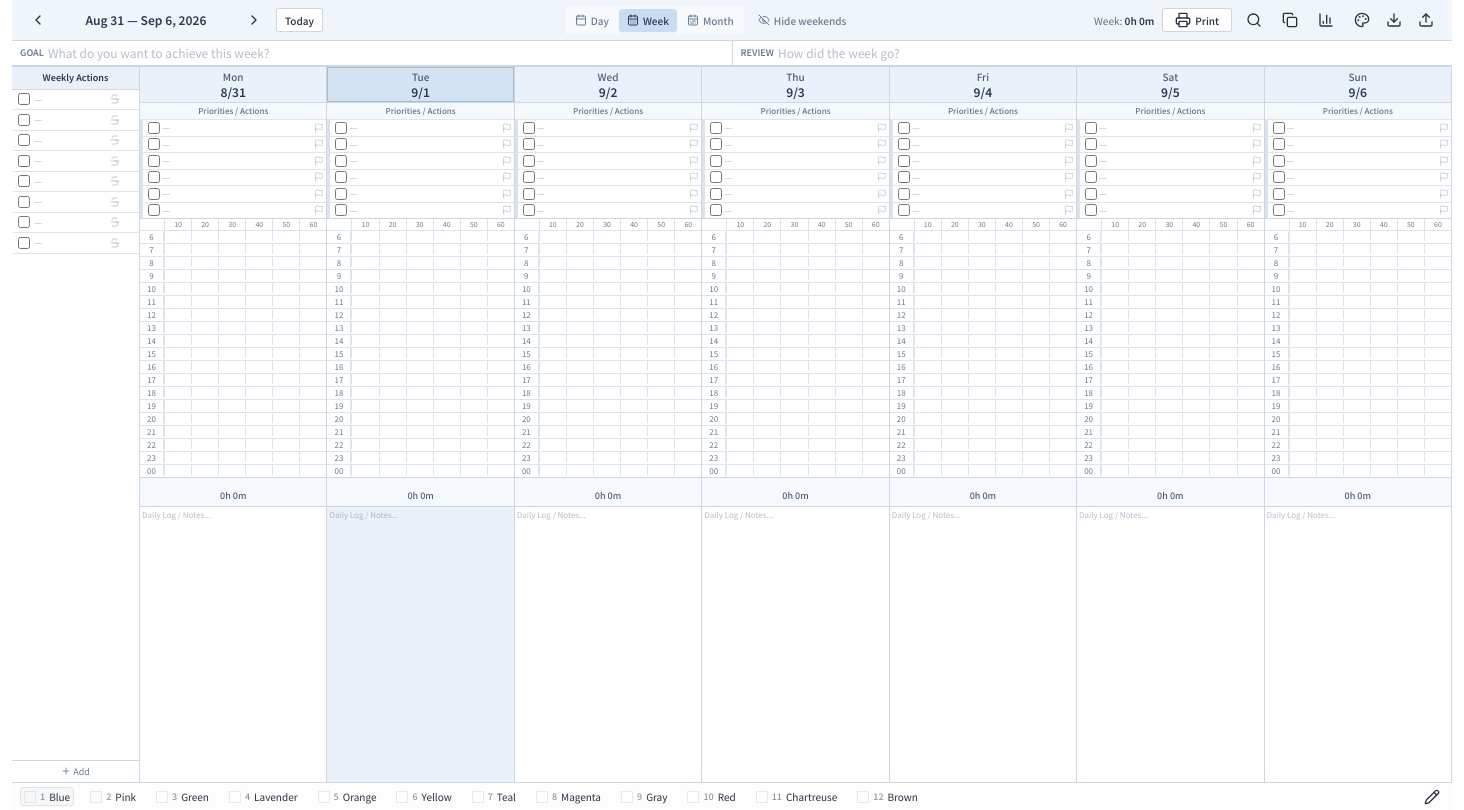
Test: getting back to today › returns to the current month when this week began in the previous one
Click the button "Month" at [710, 20], box [679,8,742,32]
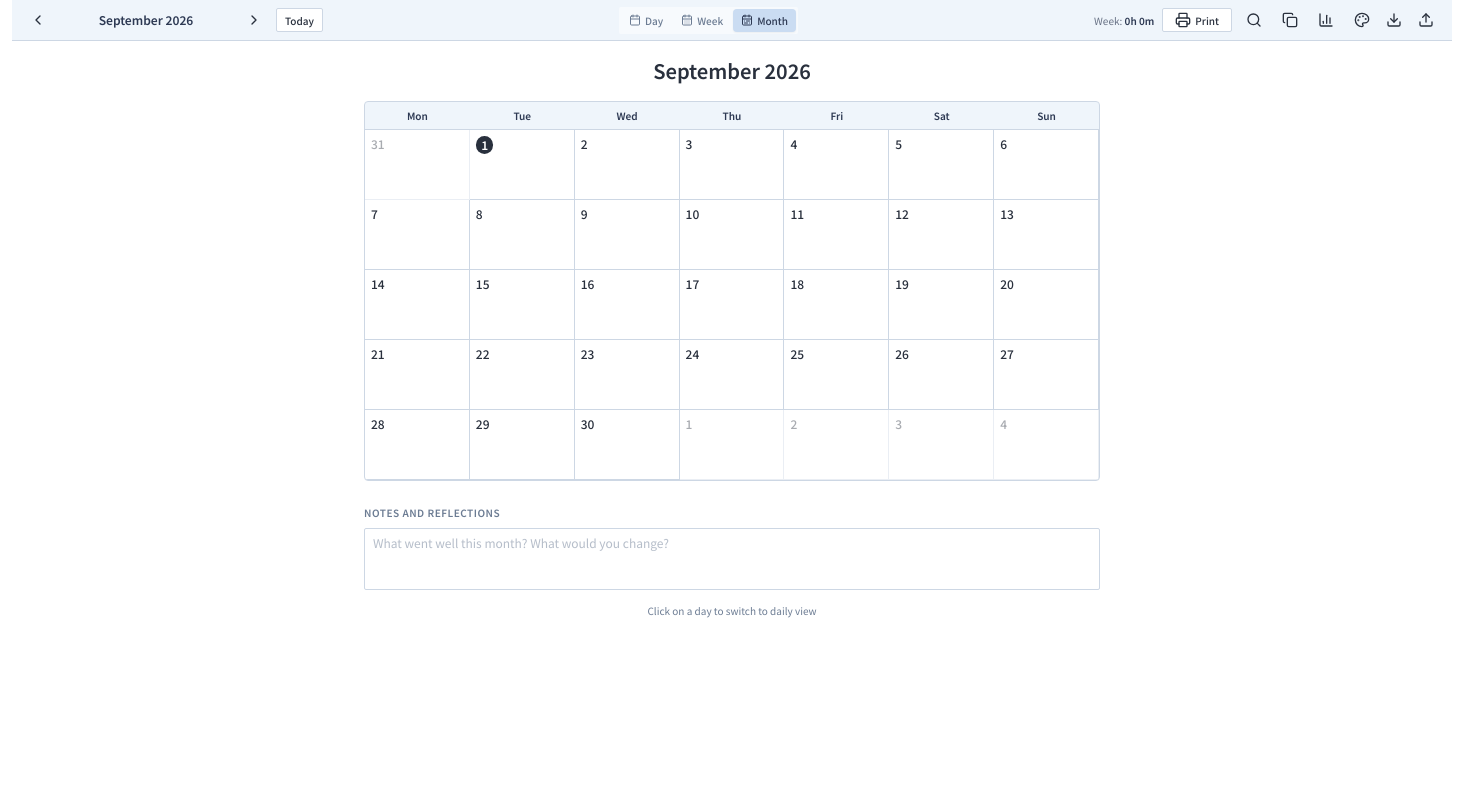
Click the button named "Previous month" at [38, 20], box [24,6,52,34]
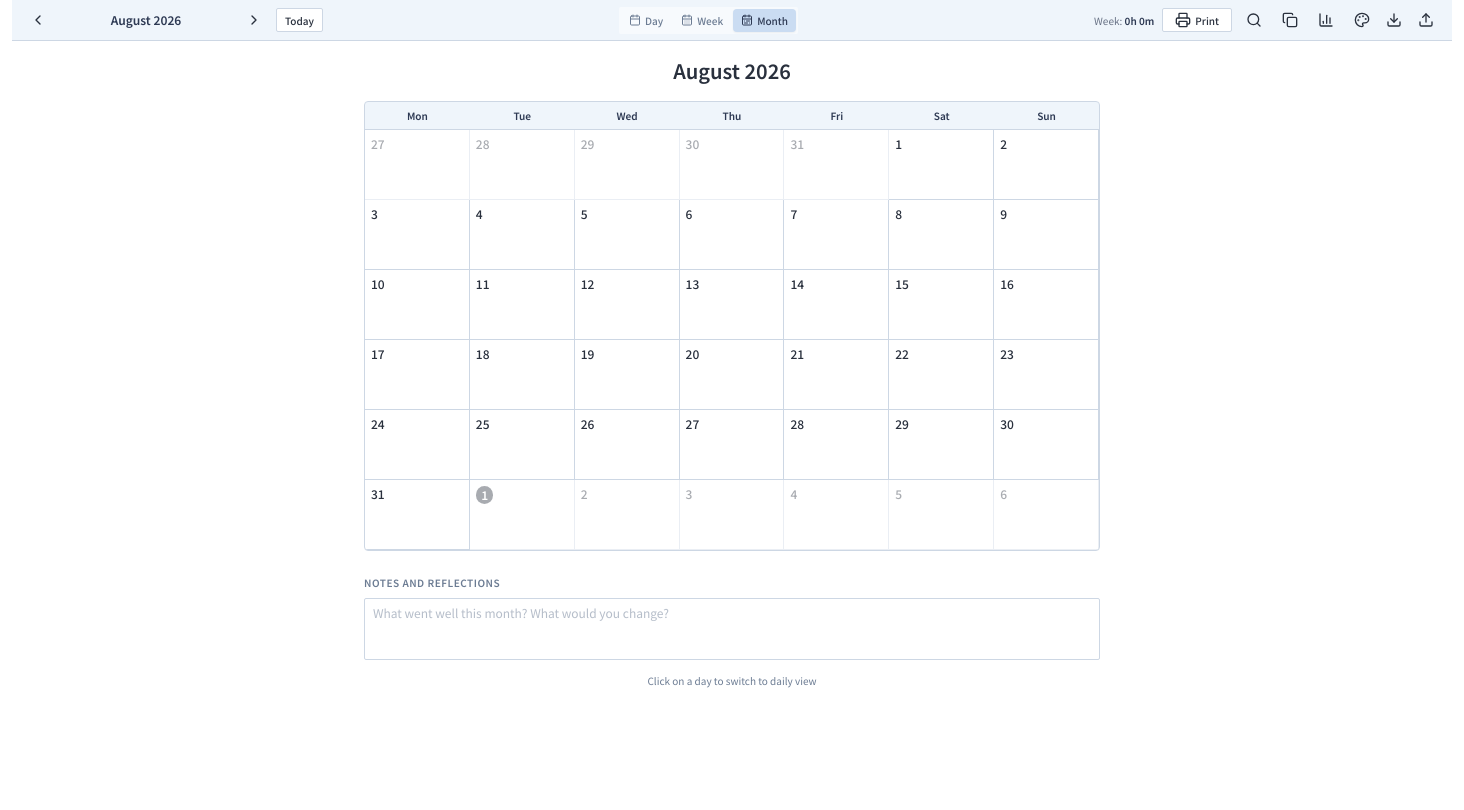
Click the button named "Previous month" at [38, 20], box [24,6,52,34]
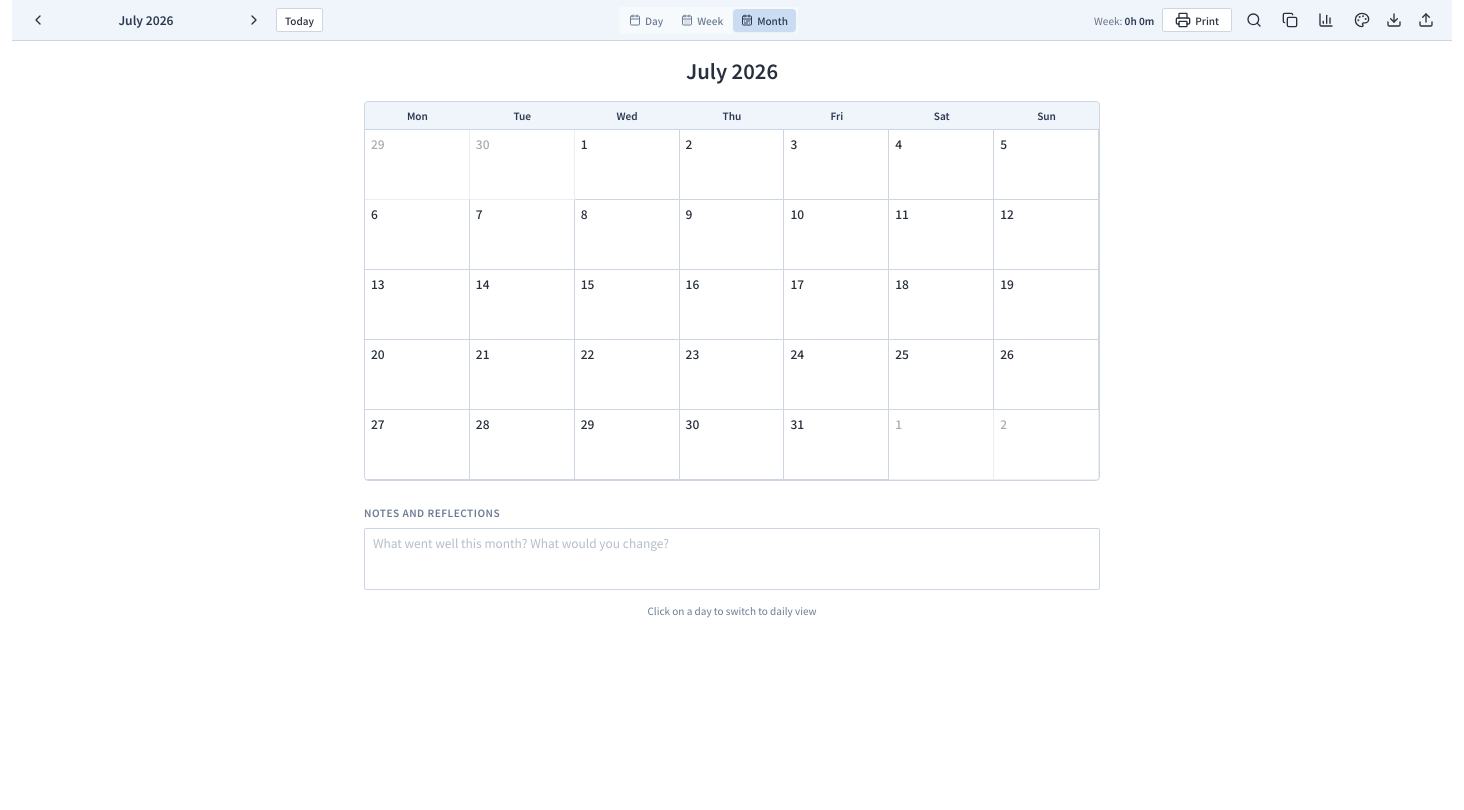
Click the button "Today" at [299, 20], box [276,8,323,32]
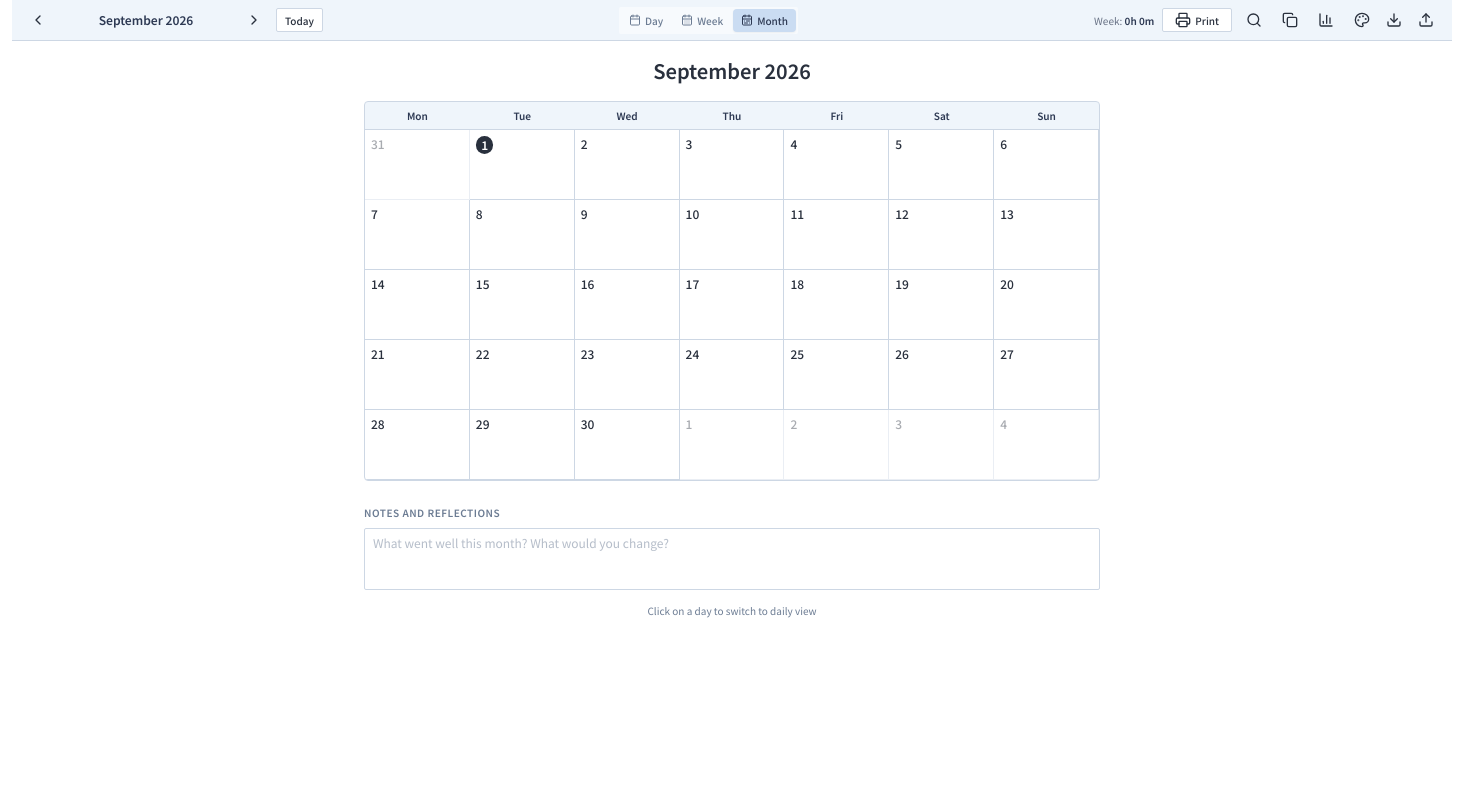
Check: the text with class "font-semibold" reads "September 2026", box [99,11,193,28]
